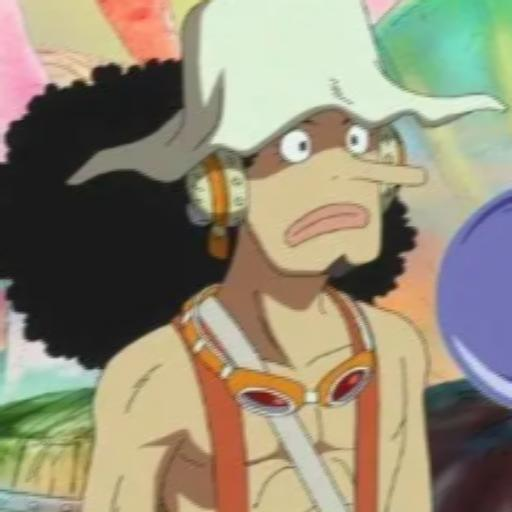Usopp: (5, 1, 512, 511)
